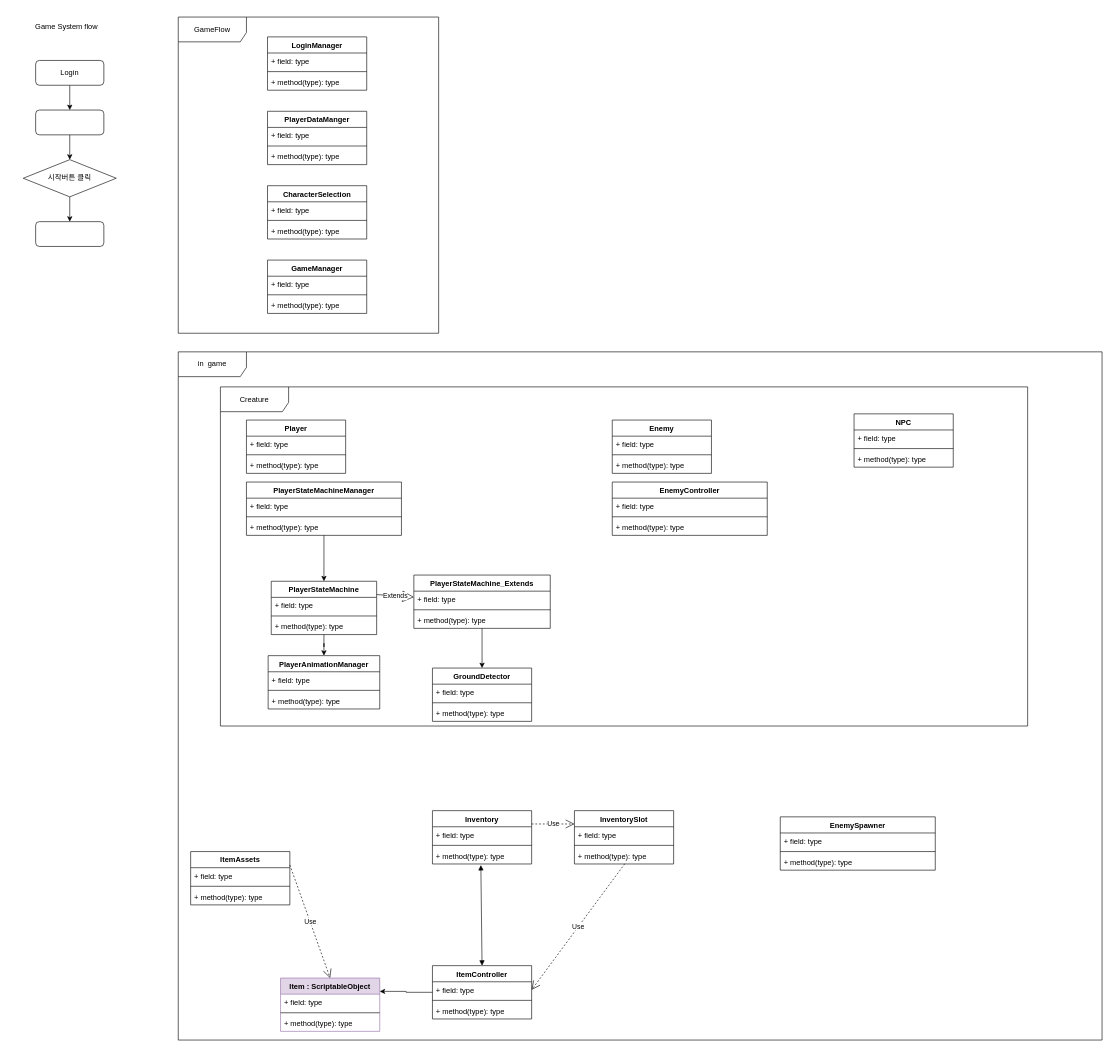
The diagram is 1113 pixels wide and 1051 high, and some of its shapes have lost their labels. The shapes that lost their labels are listed below. From the top down, each one's centre as x and y in pixels, then its label:
the point at 69,122: 캐릭터 선택
the point at 69,233: 게임시작
